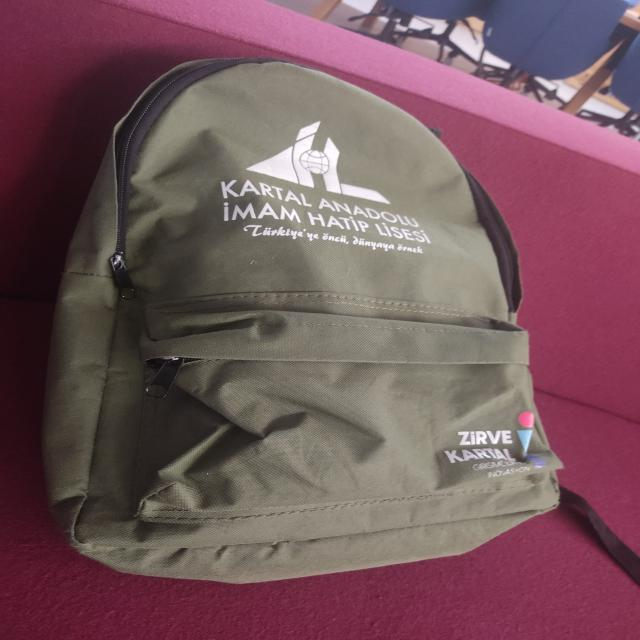bag: (47, 24, 566, 581)
